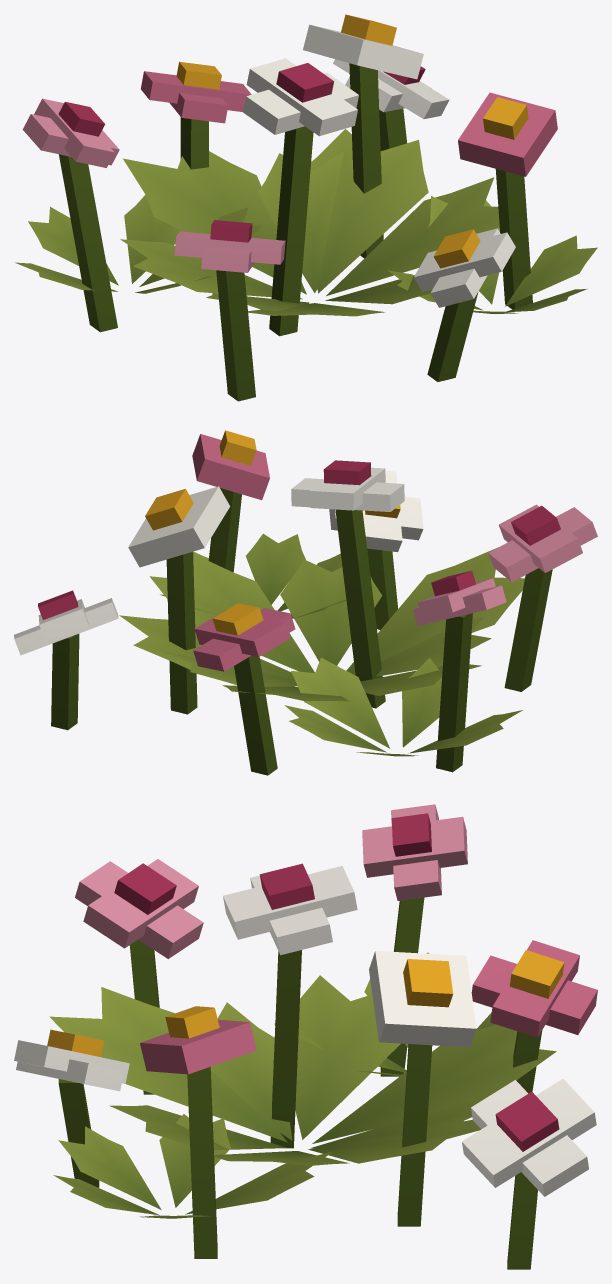
The model's file is flowers_a.glb.
3 views of the same model, one above another, from view 1: azimuth 30°, elevation 25°; view 2: azimuth 150°, elevation 25°; view 3: azimuth 270°, elevation 25° (orthographic). The views are drawn at different scales.
Visible parts, largest first — view 1: flowers_a; view 2: flowers_a; view 3: flowers_a.
Part boxes in pixels (x1,y1,x2,y2): flowers_a: (15,14,597,401); flowers_a: (14,430,597,775); flowers_a: (14,804,597,1269).
Size of the model in its own units: 1.44 by 0.7366 by 1.38.
